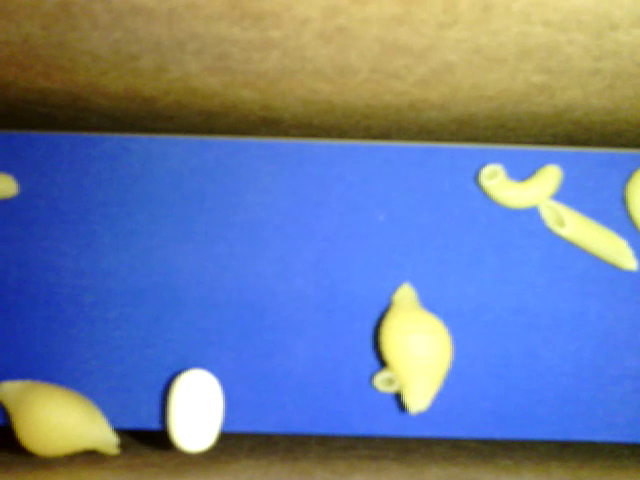elbow: (478, 163, 561, 209), (371, 368, 401, 394)
penne: (538, 199, 638, 271)
shell: (375, 280, 453, 414), (1, 379, 120, 458)
